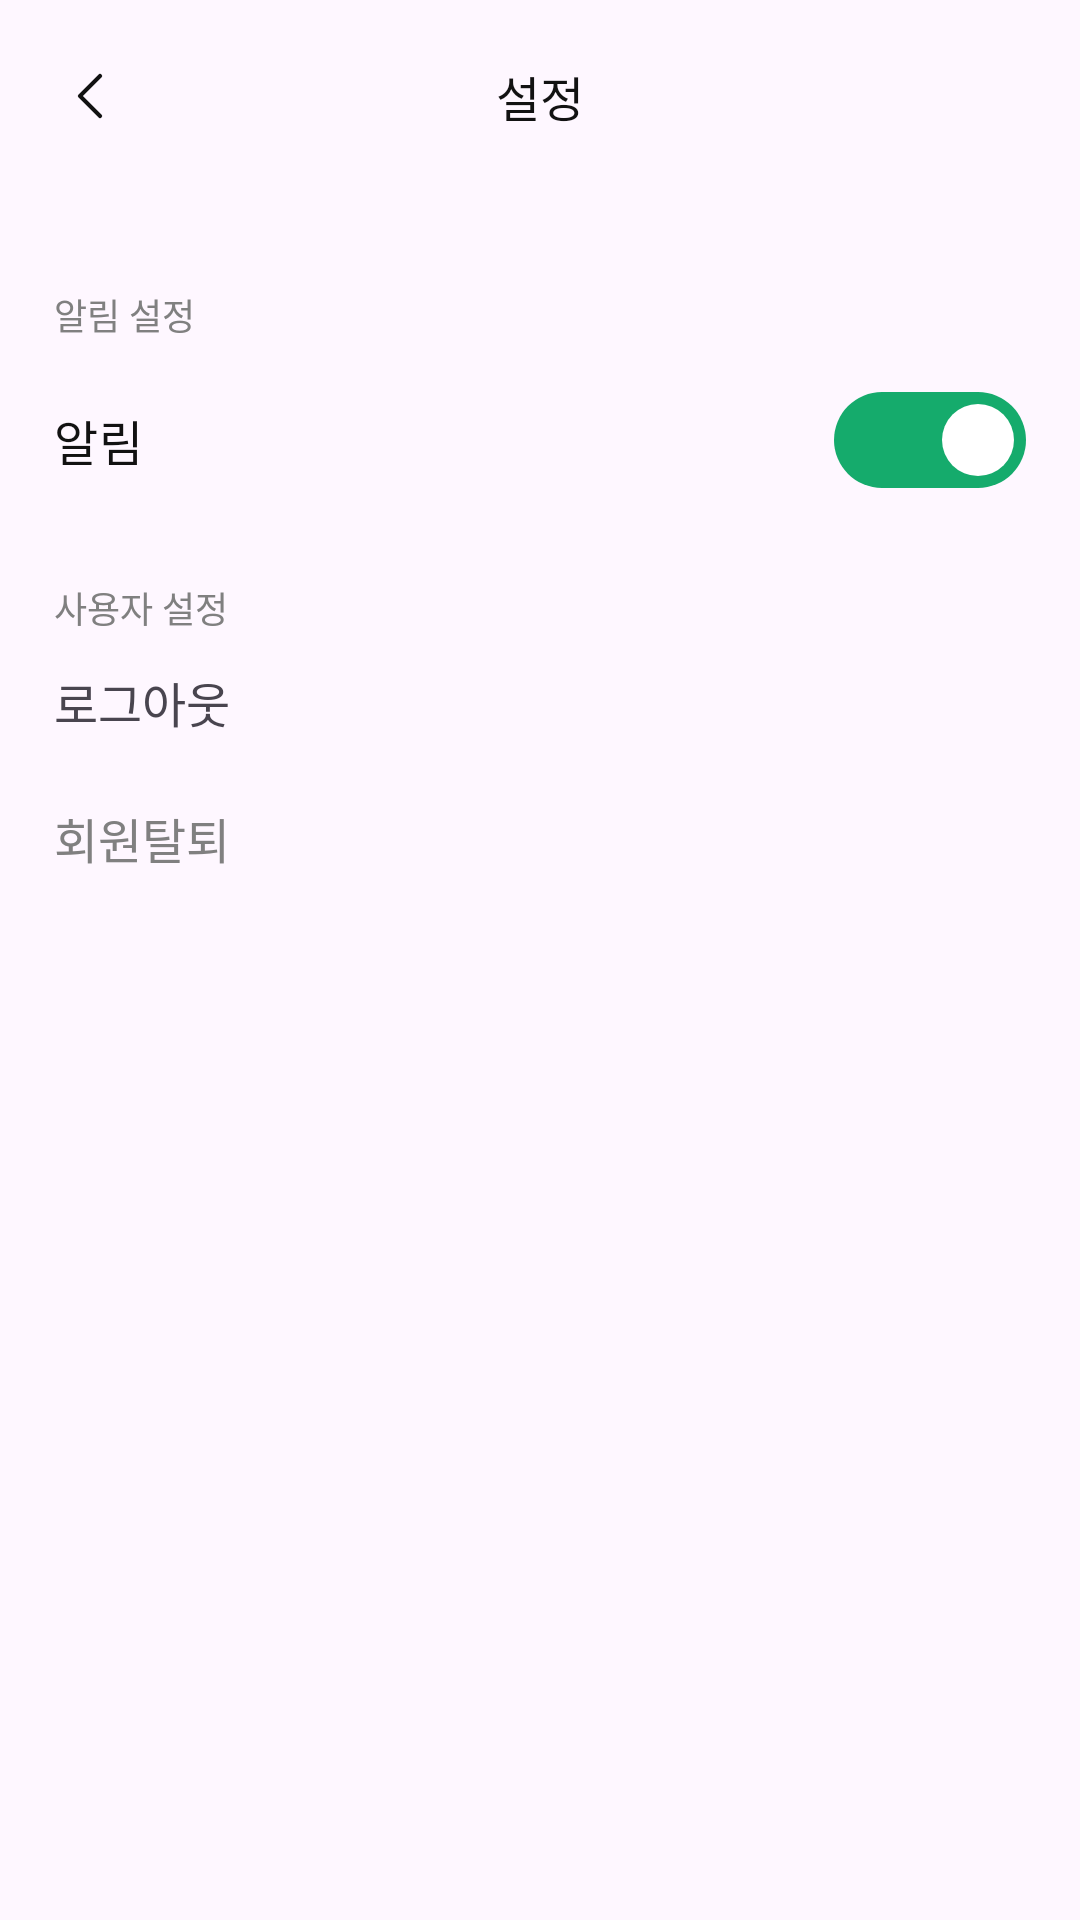

Where icons sit on this 1080px×1920px app screen, as box(x1, y1, x2, y2):
left arrow: box(78, 73, 102, 119)
